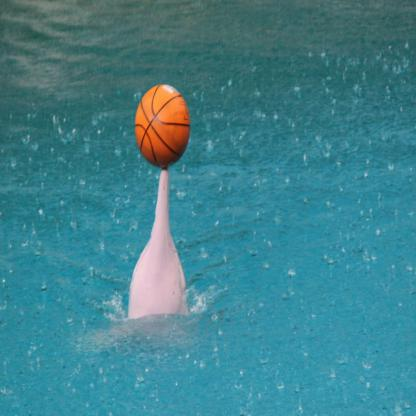Ball: (133, 84, 190, 168)
